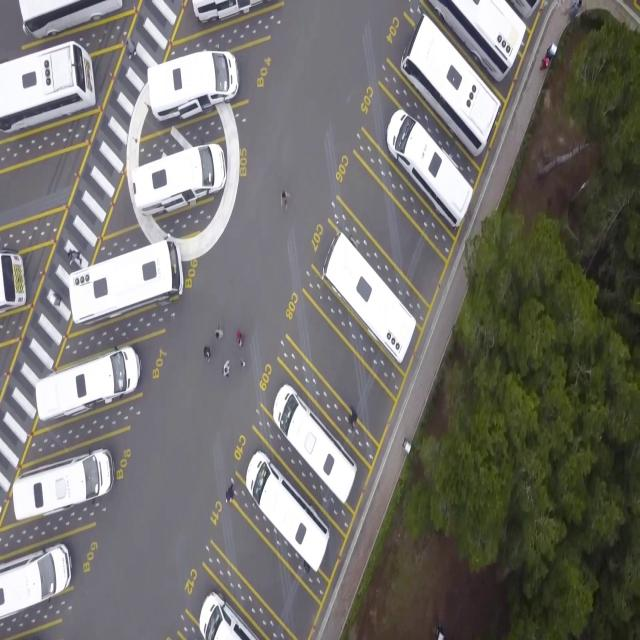people: (68, 247, 82, 267), (125, 37, 136, 60), (280, 190, 290, 211), (225, 482, 234, 504), (349, 406, 357, 427), (203, 345, 212, 362), (223, 360, 231, 378), (236, 329, 243, 347), (216, 326, 224, 339), (240, 356, 247, 369)
